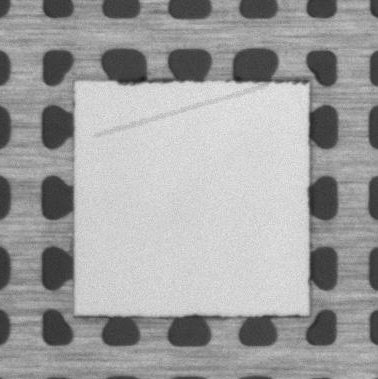DIE_CRACK: (94, 86, 265, 136)
